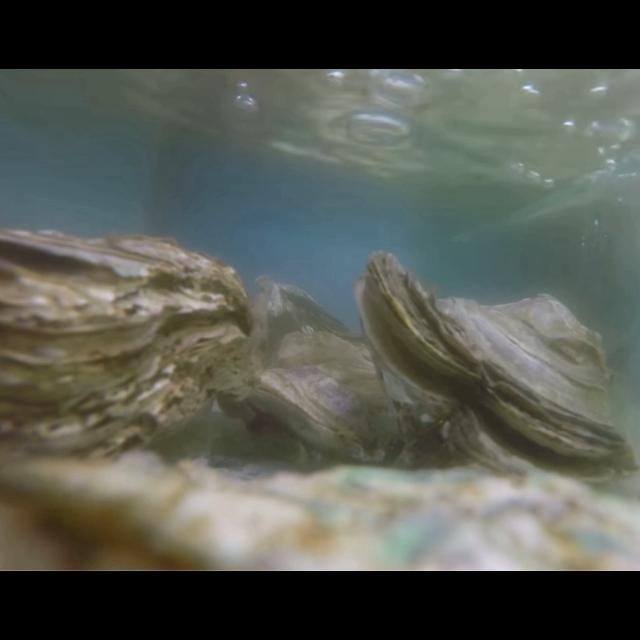Oyster-Closed: (0, 228, 254, 492), (256, 329, 414, 468)
Oyster-Indeterminate: (0, 451, 640, 571), (254, 270, 370, 360)
Oyster-Open: (354, 250, 640, 496)
